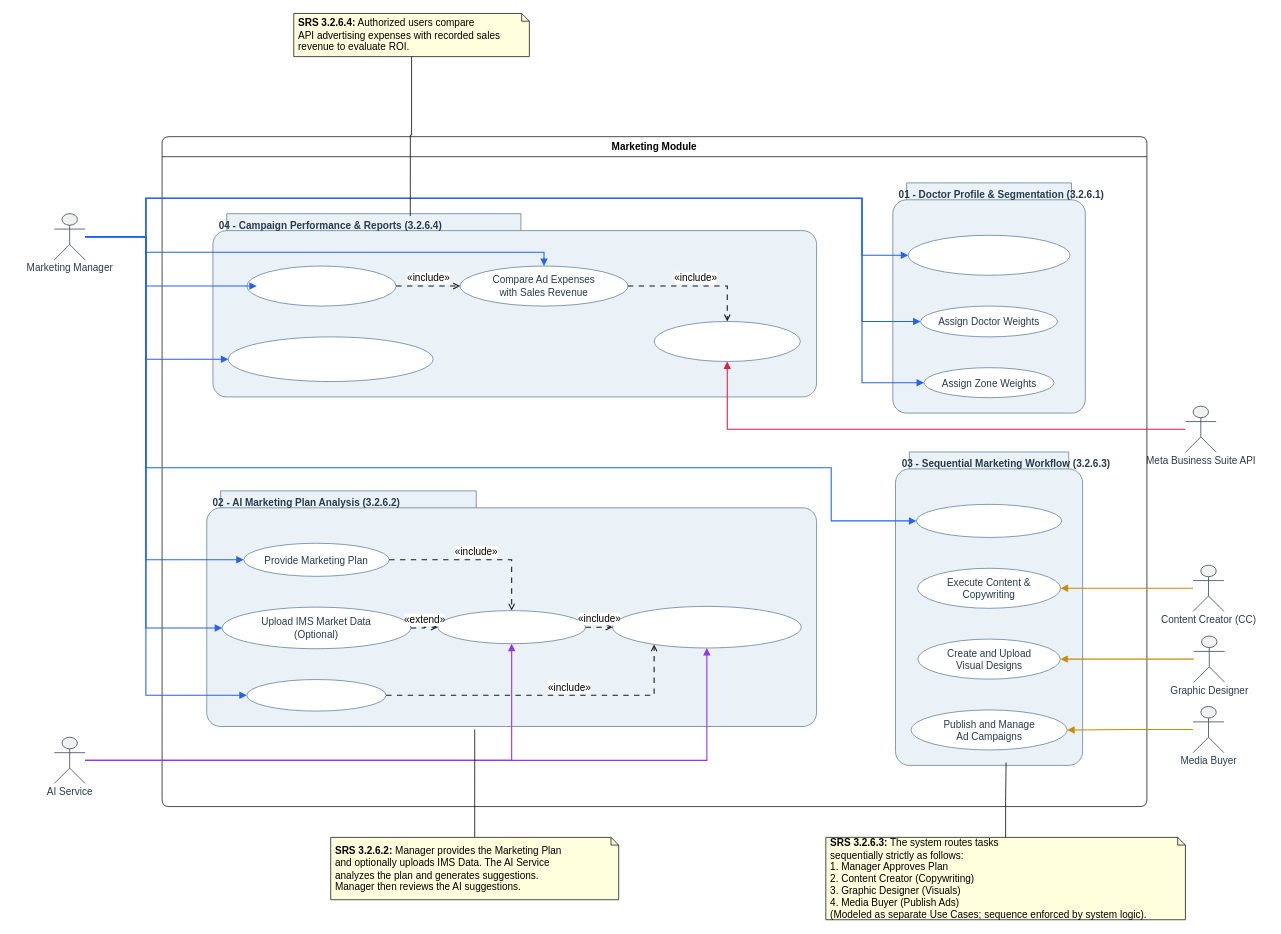
This 1281x934 diagram has some shape labels left out. The shapes that lost their labels are listed below. From the top down, each one's centre as x and y in pixels, then its label:
At point 988,254: "View Existing Doctor Classifications".
At point 321,285: "Evaluate Campaign Performance & ROI".
At point 330,359: "Review Reports & High-Level Business KPI Dashboards".
At point 726,341: "Retrieve Campaign Advertising Data".
At point 989,520: "Approve Campaign Plan".
At point 511,627: "Analyze Marketing Plan".
At point 706,627: "Suggest Improvements & Generate Campaign Ideas".
At point 316,695: "Review AI Suggestions".
